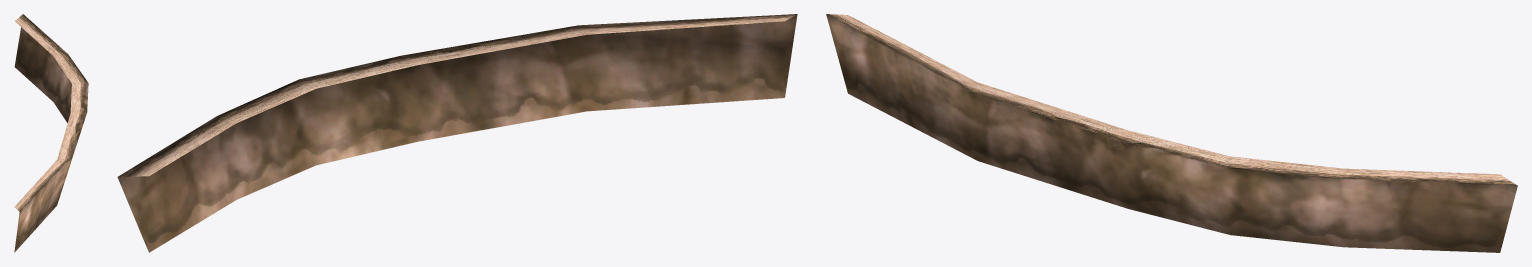
File: OVERHILL_A_01_LINE62.fbx
3 renders of one model, left to right at view 1: azimuth 30°, elevation 25°; view 2: azimuth 150°, elevation 25°; view 3: azimuth 270°, elevation 25°, orthographic. The views are drawn at different scales.
Visible parts, largest first — view 1: OVERHILL_A_01_LINE62; view 2: OVERHILL_A_01_LINE62; view 3: OVERHILL_A_01_LINE62.
Boxes of the visible parts, x1,y1,x2,y2 form: OVERHILL_A_01_LINE62: (14,14,88,252); OVERHILL_A_01_LINE62: (117,14,797,252); OVERHILL_A_01_LINE62: (826,14,1517,252).
Bounding box in the file's own units: 25284 × 5400 × 43022.
1 material, 1 textured.
